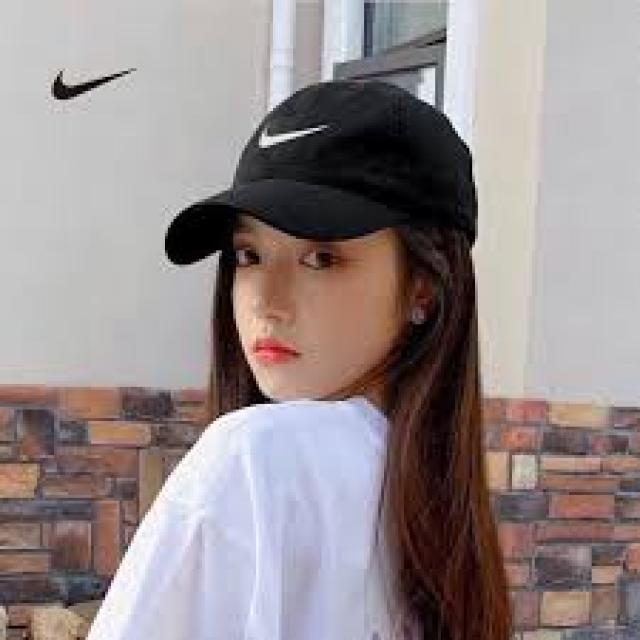cap: (148, 65, 498, 302)
